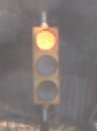Red: (24, 8, 66, 117)
